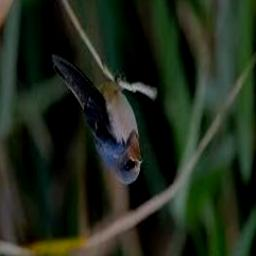Swallow: (49, 54, 141, 184)
